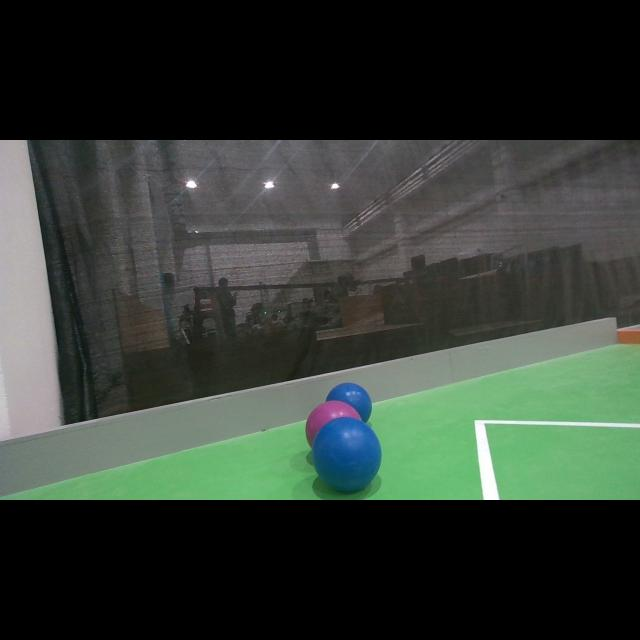B: (313, 417, 382, 493), (326, 382, 372, 423)
P: (308, 402, 364, 448)
